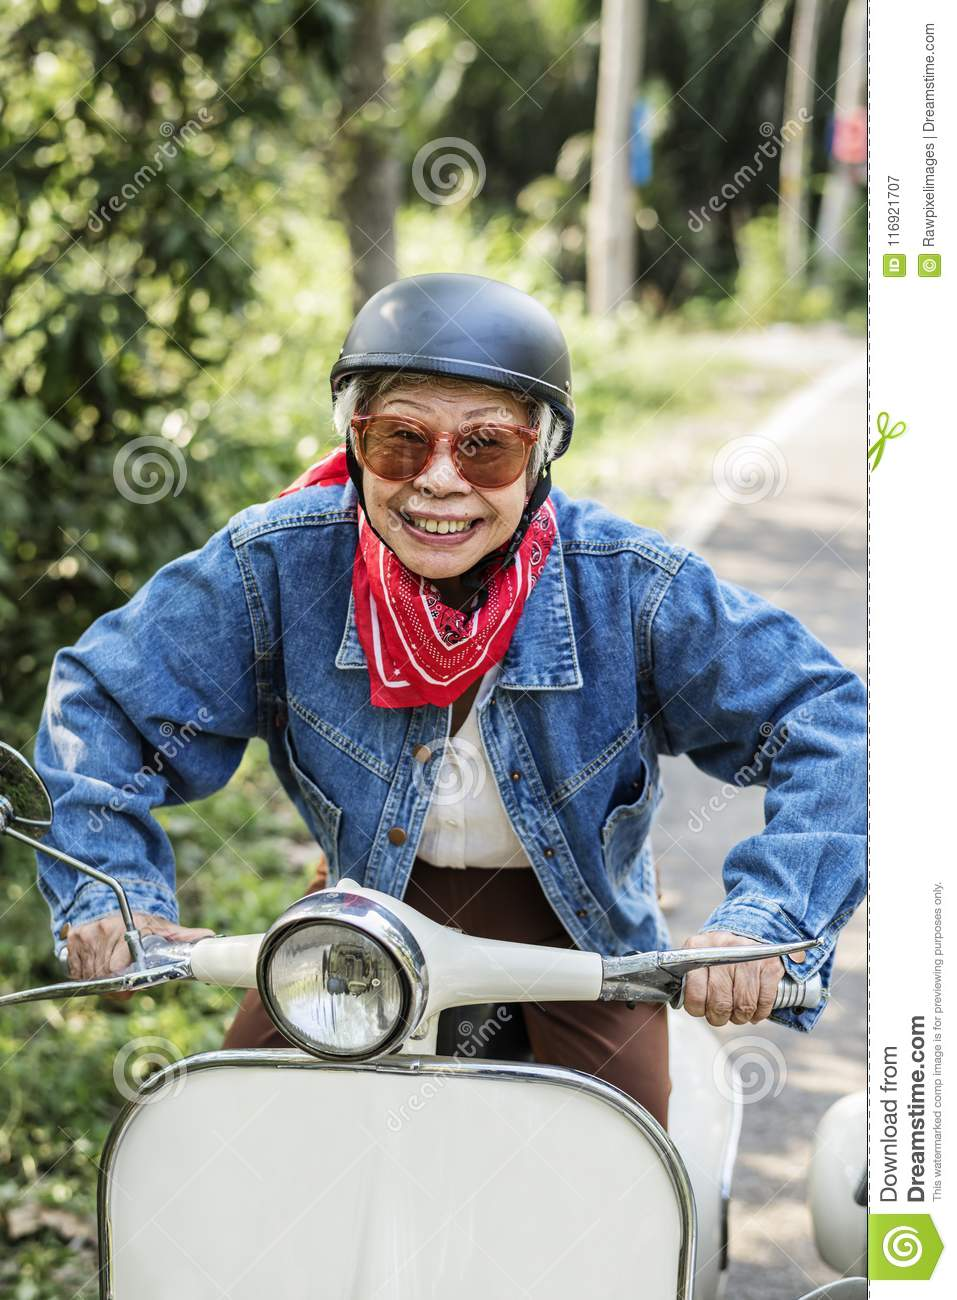helmet: (315, 265, 581, 425)
